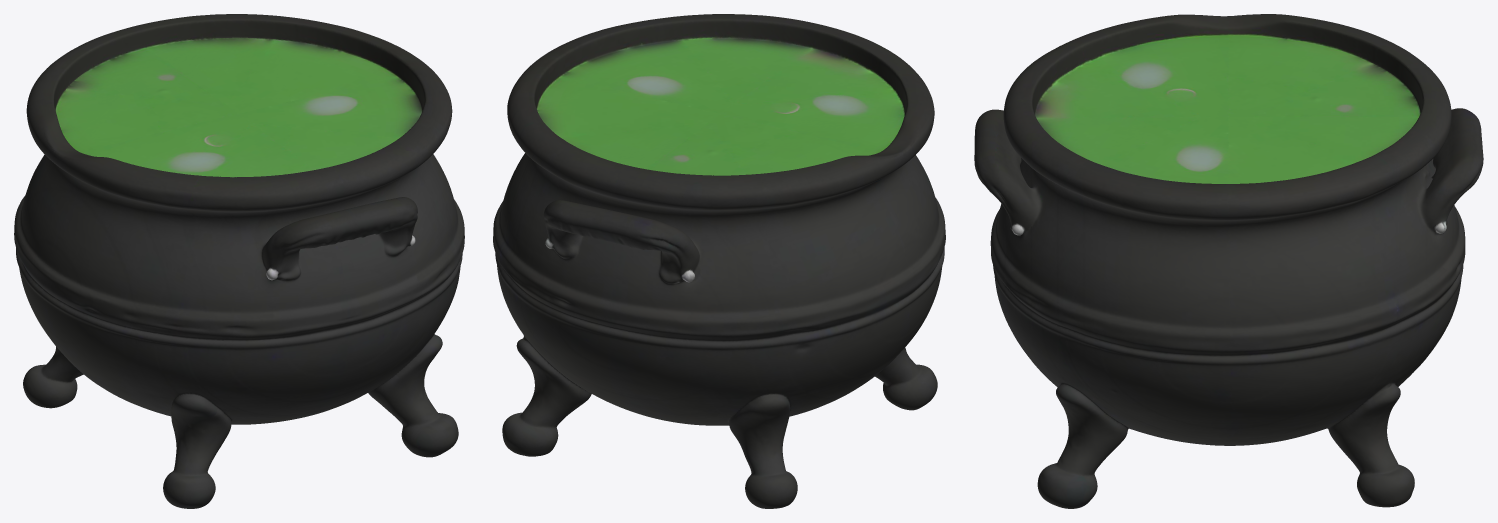
The model's file is detailed_realistic_model_potions_01.glb.
3 views of the same model, side by side, from view 1: azimuth 30°, elevation 25°; view 2: azimuth 150°, elevation 25°; view 3: azimuth 270°, elevation 25° (orthographic). The views are drawn at different scales.
Parts seen in each view (by area): view 1: tripo_node_47e3b842-f274-4b59-bd7c-38c649ba3713; view 2: tripo_node_47e3b842-f274-4b59-bd7c-38c649ba3713; view 3: tripo_node_47e3b842-f274-4b59-bd7c-38c649ba3713.
Part boxes in pixels (box(x1,y1,x2,y2)): tripo_node_47e3b842-f274-4b59-bd7c-38c649ba3713: box(14, 14, 464, 508); tripo_node_47e3b842-f274-4b59-bd7c-38c649ba3713: box(493, 14, 945, 508); tripo_node_47e3b842-f274-4b59-bd7c-38c649ba3713: box(974, 14, 1483, 508).
Size of the model in its own units: 0.9313 by 0.7551 by 1.
Materials: 1 (1 with a texture image).
